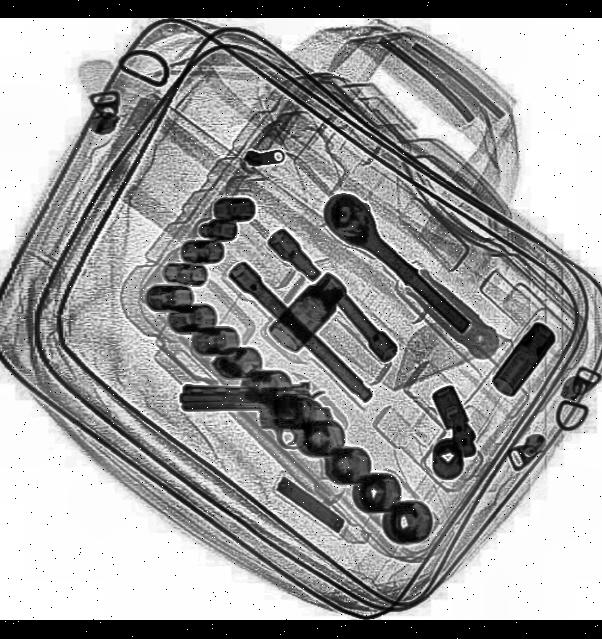Gun: (176, 382, 334, 453)
